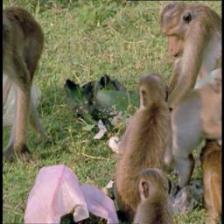monkey: (156, 0, 197, 66)
